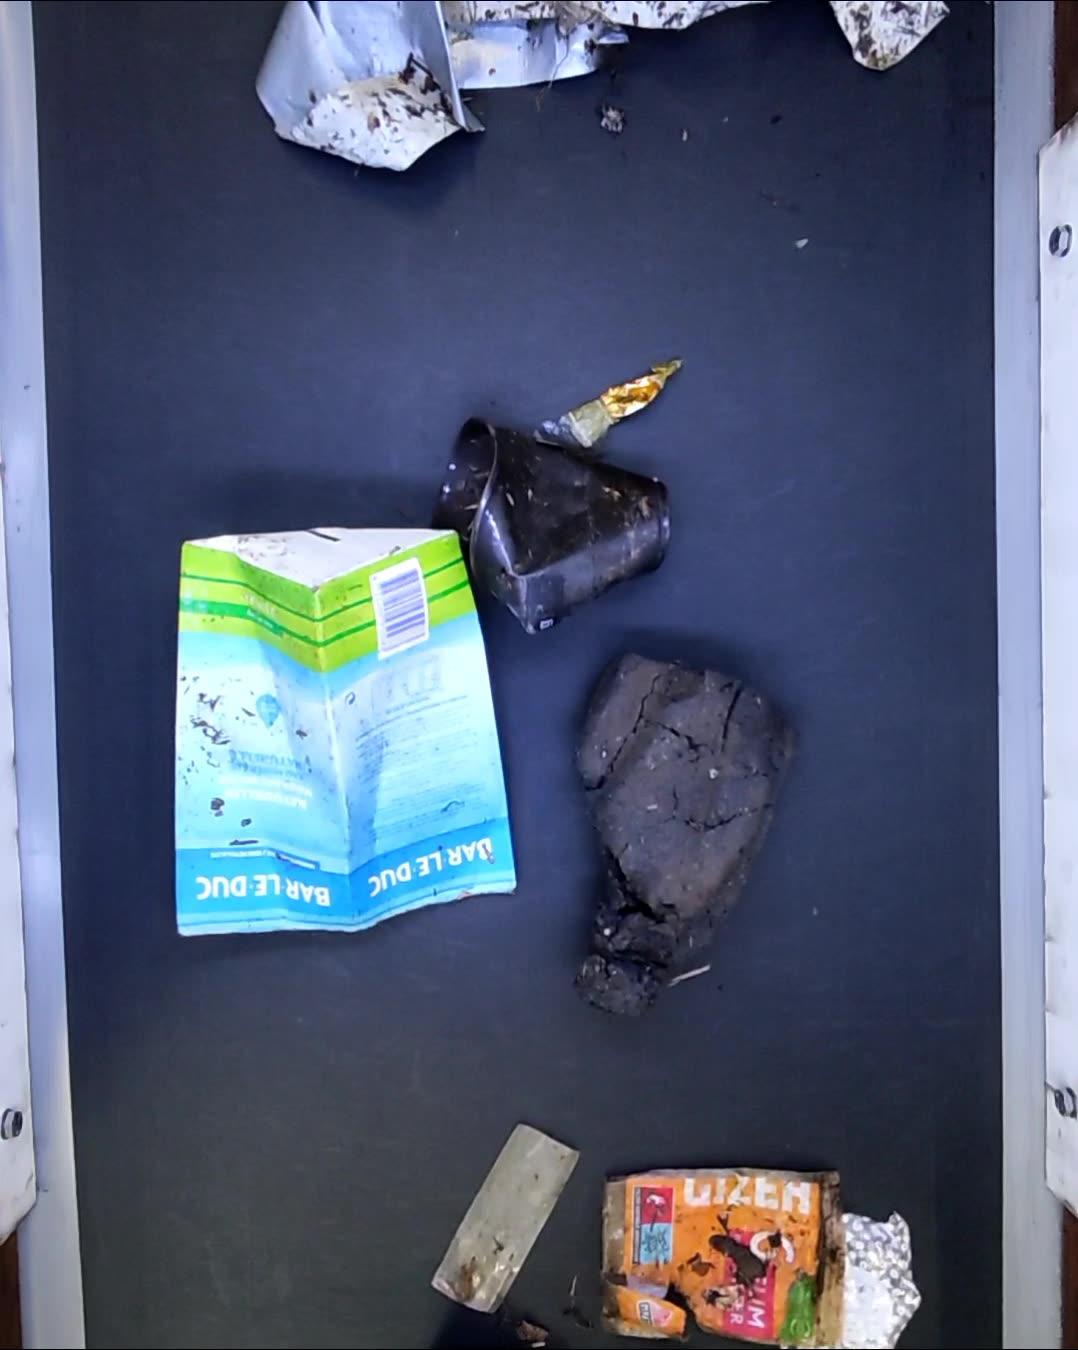Plastic folies of stukken daarvan 2.5- 50 cm: (435, 1118, 585, 1317)
Snoep snack en chips verpakkingen: (609, 1163, 847, 1350), (553, 355, 690, 449), (829, 1215, 919, 1350)
